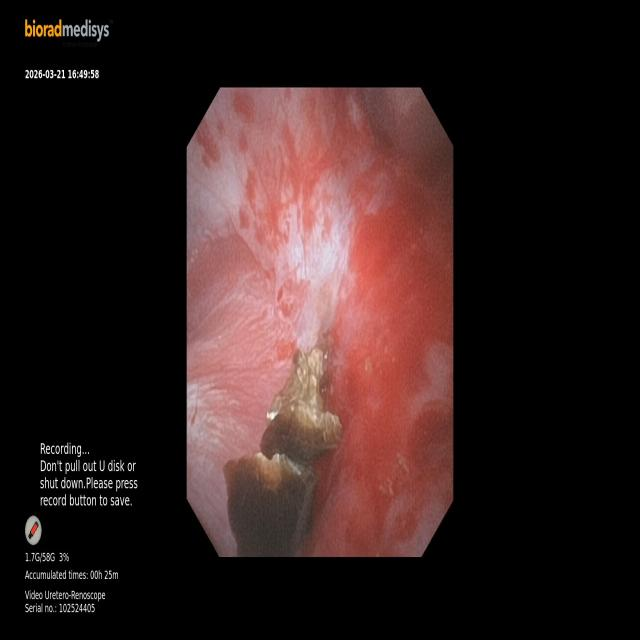stone-new: (223, 453, 317, 556), (261, 348, 342, 463)
